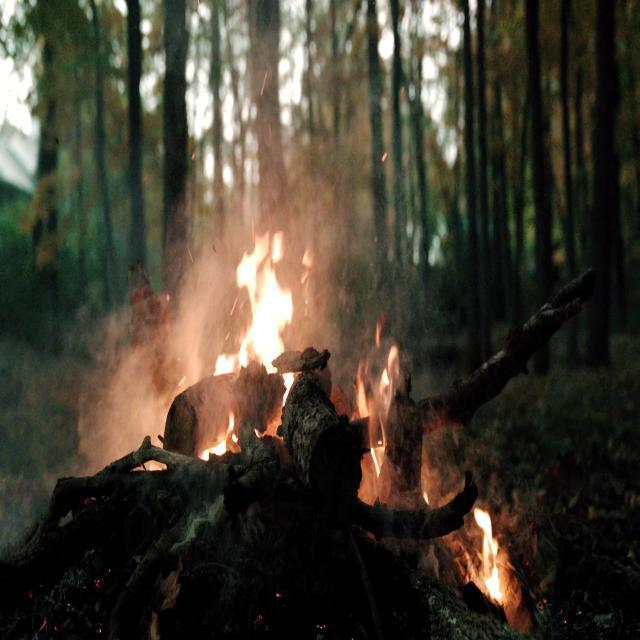Fire: (207, 231, 305, 459), (464, 498, 514, 621)
Smoke: (270, 86, 408, 378), (52, 273, 225, 462)
